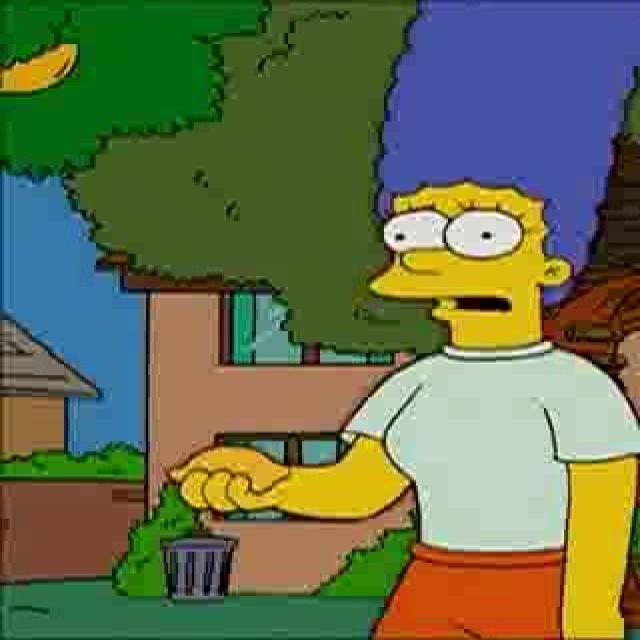Marge Simpson: (362, 0, 640, 353)
